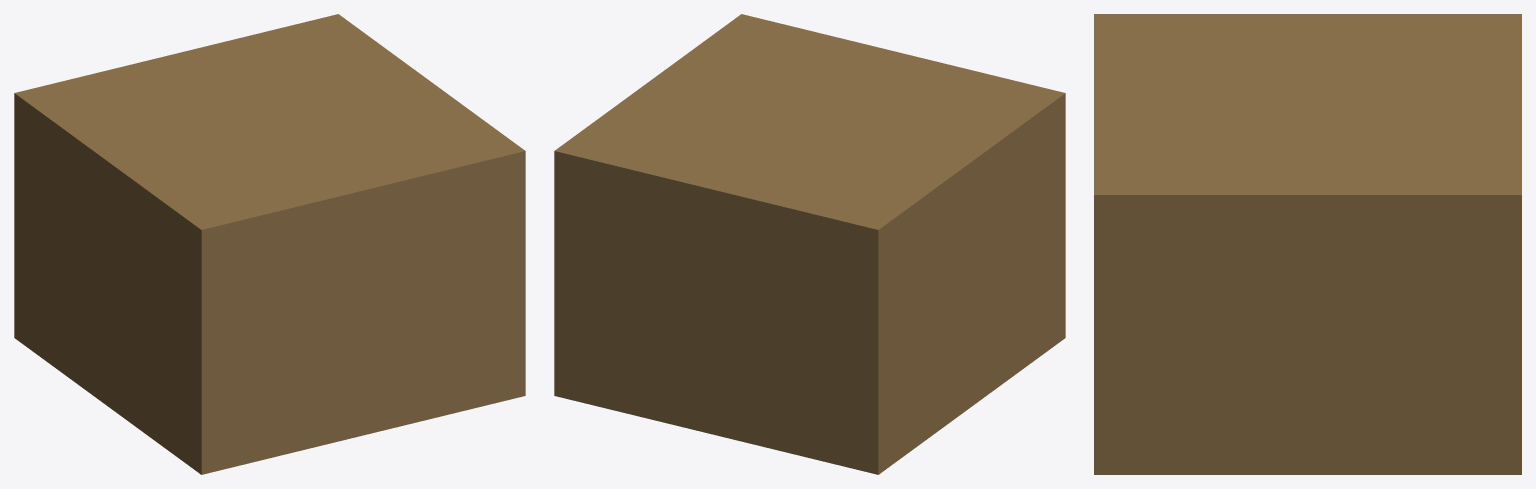
File: caja.glb
The picture shows the model from 3 angles, left to right: view 1: azimuth 30°, elevation 25°; view 2: azimuth 150°, elevation 25°; view 3: azimuth 270°, elevation 25°; orthographic projection. The views are drawn at different scales.
Parts seen in each view (by area): view 1: caja; view 2: caja; view 3: caja.
Boxes of the visible parts, bbox=[...] form: caja: bbox=[14, 14, 525, 474]; caja: bbox=[554, 14, 1065, 474]; caja: bbox=[1094, 14, 1521, 474].
Size of the model in its own units: 1.8 by 1.3 by 1.8.
